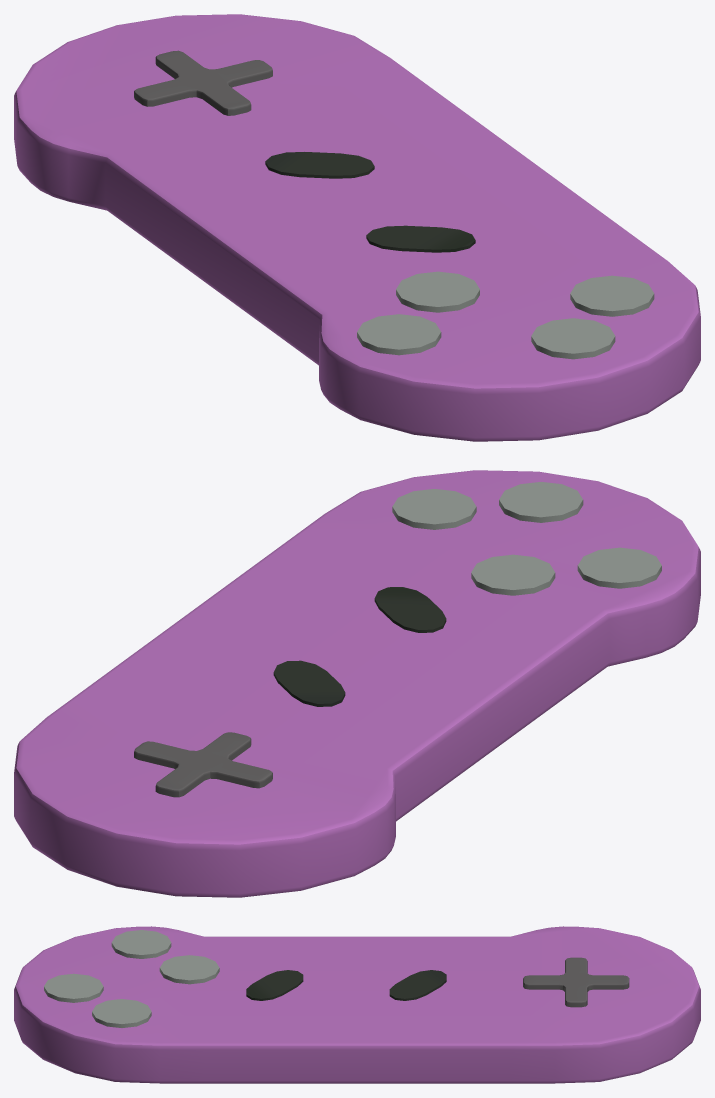
Rendered from joystick.fbx.
The picture shows the model from 3 angles, top to bottom: view 1: azimuth 30°, elevation 25°; view 2: azimuth 150°, elevation 25°; view 3: azimuth 270°, elevation 25°; orthographic projection. The views are drawn at different scales.
Visible parts, largest first — view 1: joytick:polySurface8; view 2: joytick:polySurface8; view 3: joytick:polySurface8.
Part boxes in pixels (x1,y1,x2,y2): joytick:polySurface8: (14,14,700,441); joytick:polySurface8: (14,470,700,897); joytick:polySurface8: (14,926,700,1083).
Bounding box in the file's own units: 1.97 × 0.3495 × 4.74.
